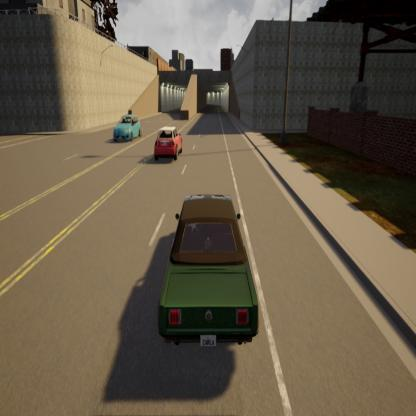Cars: (155, 186, 265, 363), (149, 122, 186, 163), (112, 113, 144, 148)
